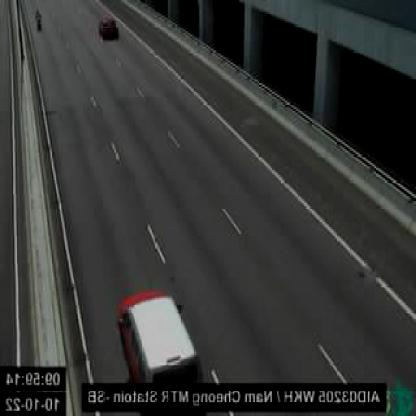Car: (118, 287, 205, 388), (98, 14, 118, 37)
